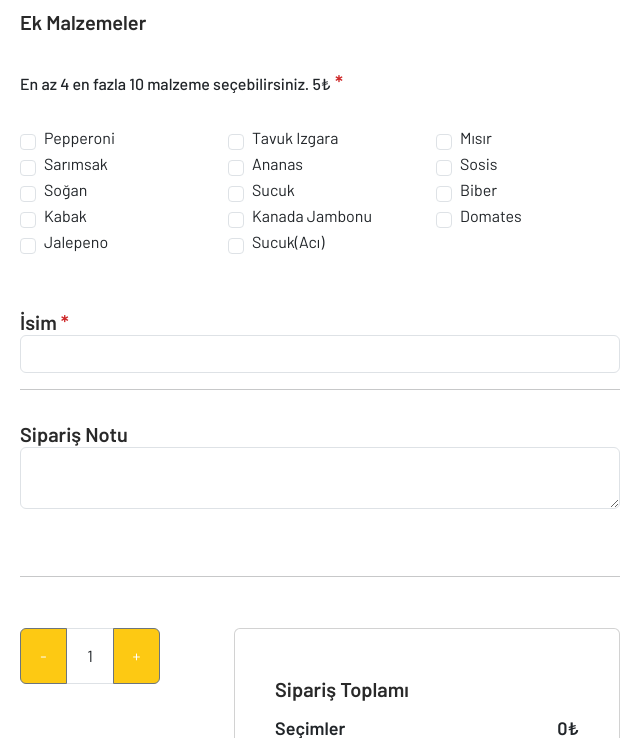
Test: Sipariş Sayfası Testleri › İsim en az 3 karakter olduğunda uyarı kalkmalı
(page scrolled)
In the field named "isim": [320, 354] box [20,335,620,373], type "Al"
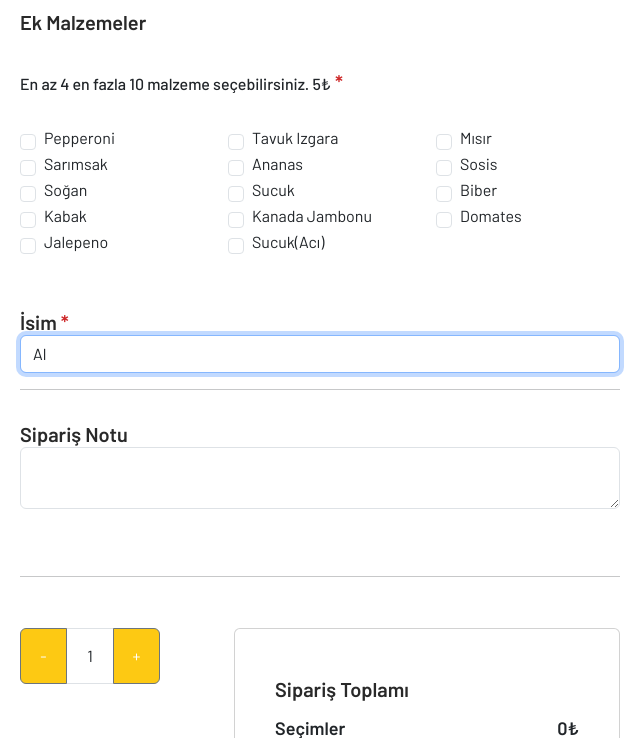
Expected: the text with test id "name-warn" is shown, [57,310,69,334]
In the field named "isim": [320, 354] box [20,335,620,373], type "i"
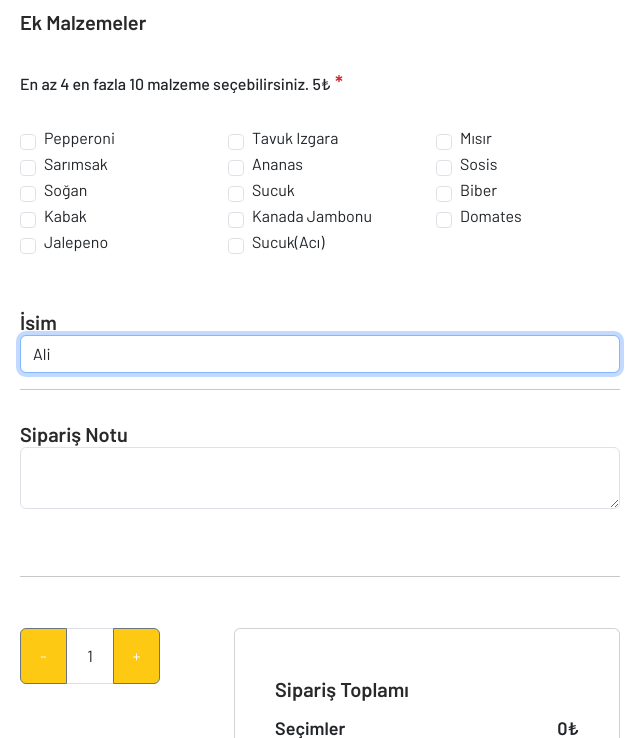
Expected: the text with test id "name-warn" is gone
